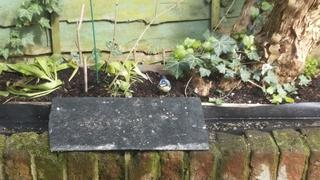blue tit: (157, 75, 171, 97)
